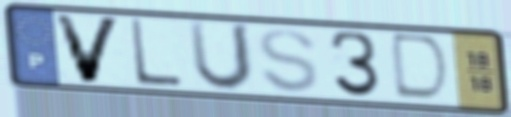3: (326, 29, 384, 100)
D: (391, 31, 454, 105)
L: (127, 16, 185, 90)
S: (255, 26, 322, 96)
U: (185, 18, 256, 95)
V: (49, 11, 126, 85)
